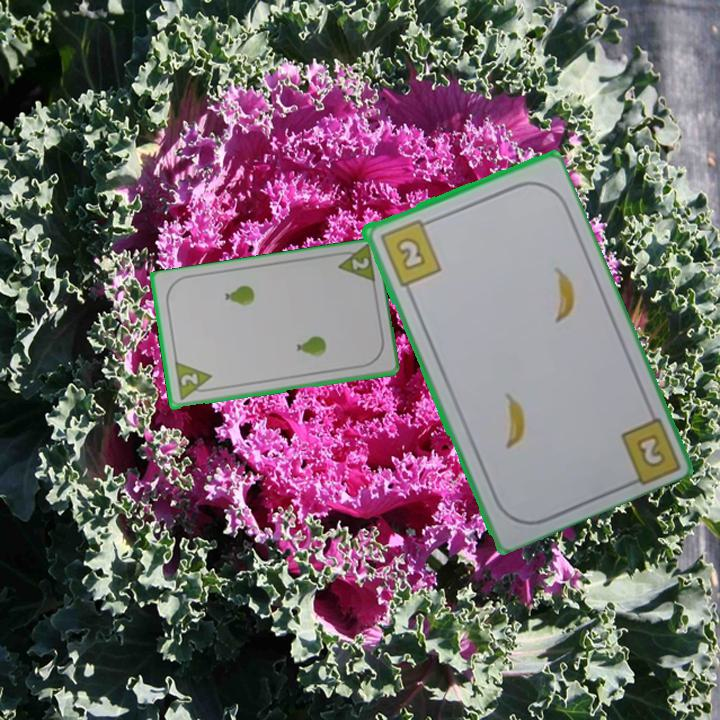2b: (376, 215, 444, 289), (632, 430, 668, 471)
2p: (171, 359, 216, 404), (348, 254, 372, 273)
